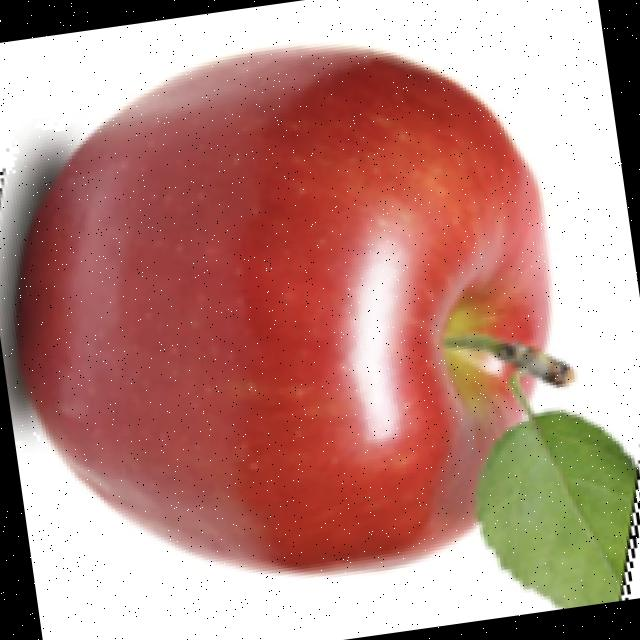apple: (0, 41, 640, 596)
